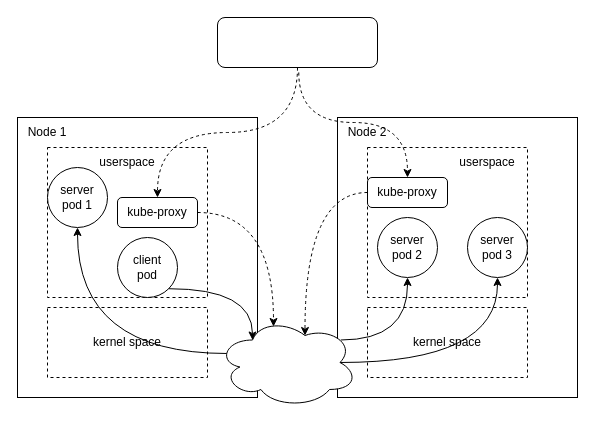
The diagram is 595 pixels wide and 425 high, and some of its shapes have lost their labels. The centre of each missing label's shape, as x and y in pixels:
"kuber-apiserver" belongs at [297,42].
"Service IP (ipvs)" belongs at [287,362].
